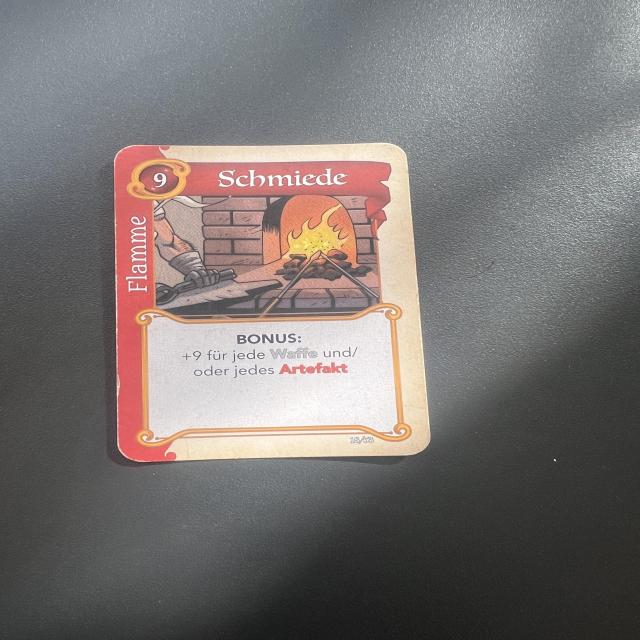Forge: (113, 141, 434, 463)
